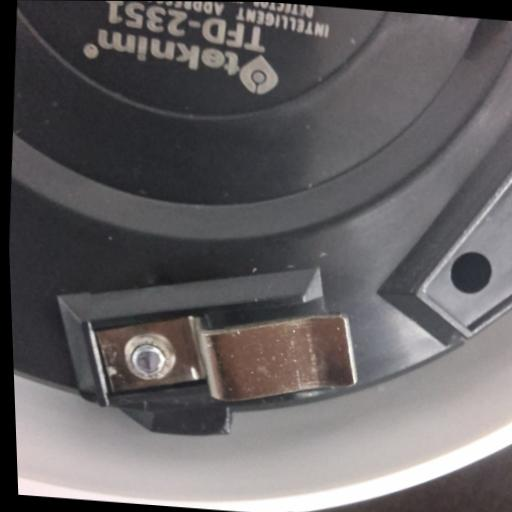yaysiz: (82, 289, 357, 419)
